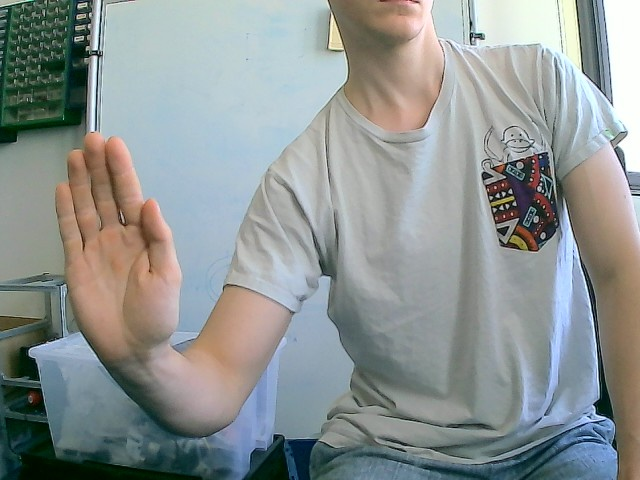stop: (53, 130, 183, 367)
